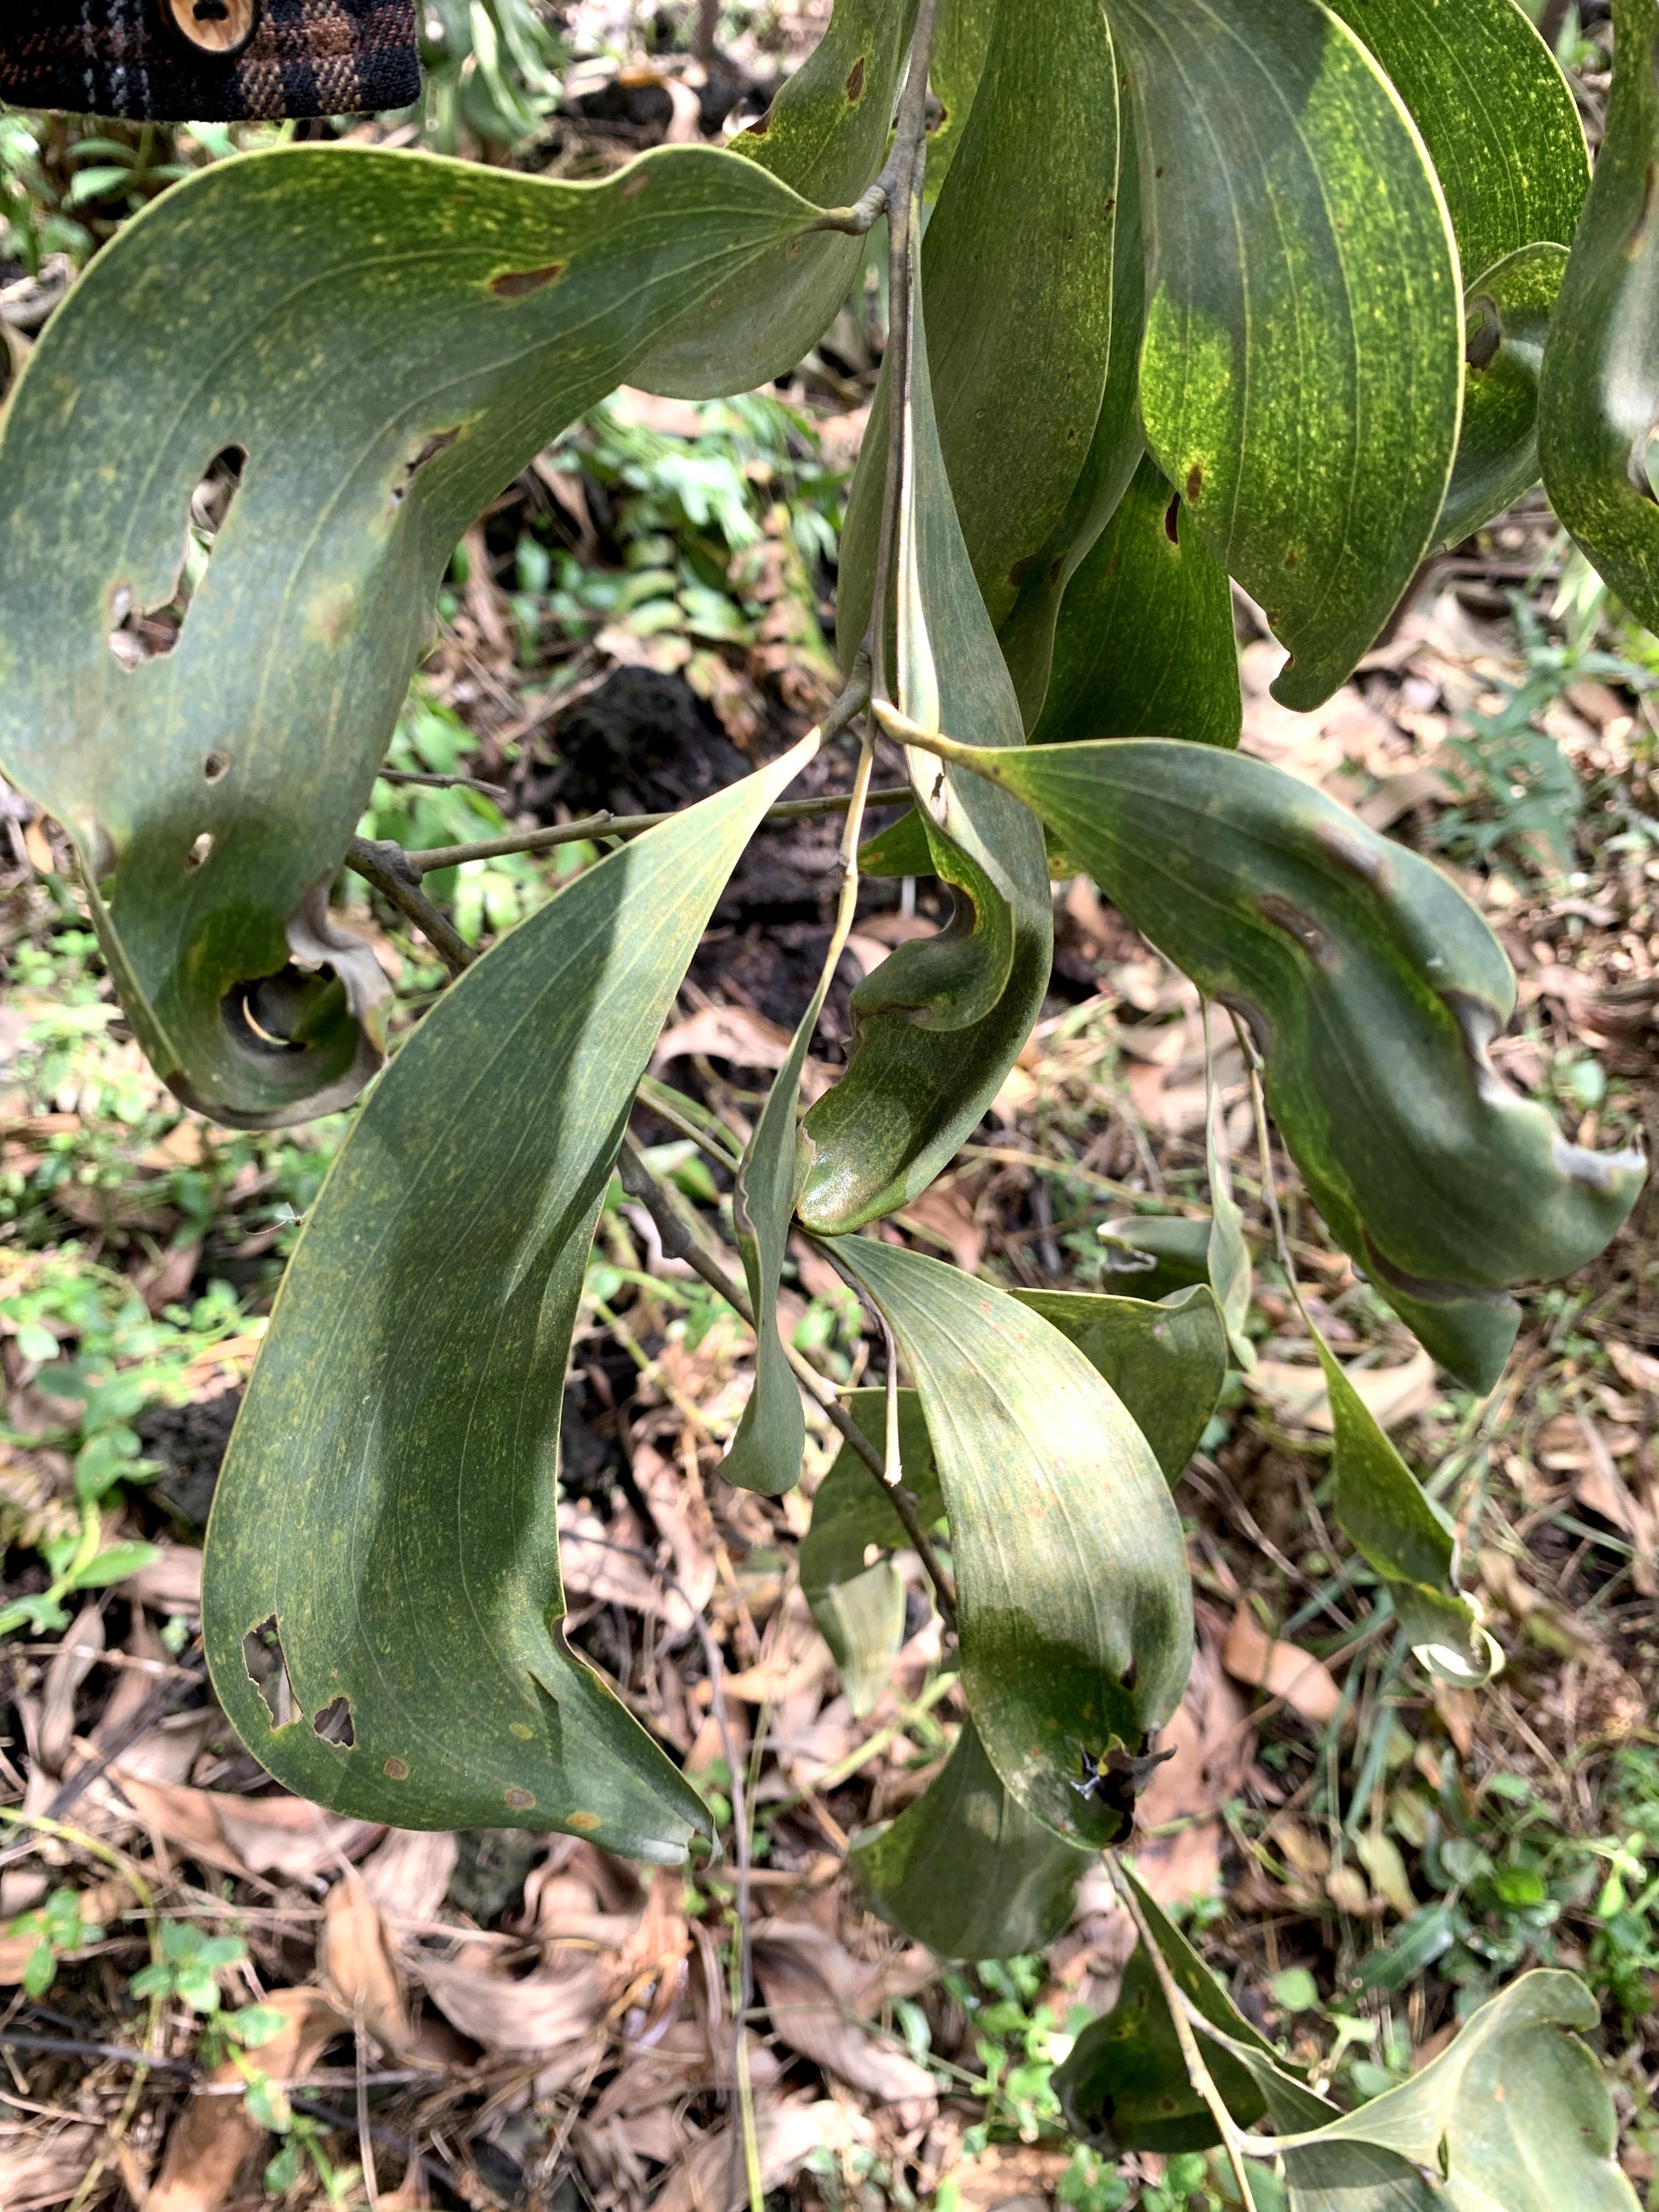Pasalora: (1148, 791, 1659, 1369), (5, 463, 401, 1158), (819, 1390, 1213, 1970), (706, 819, 1072, 1251)
